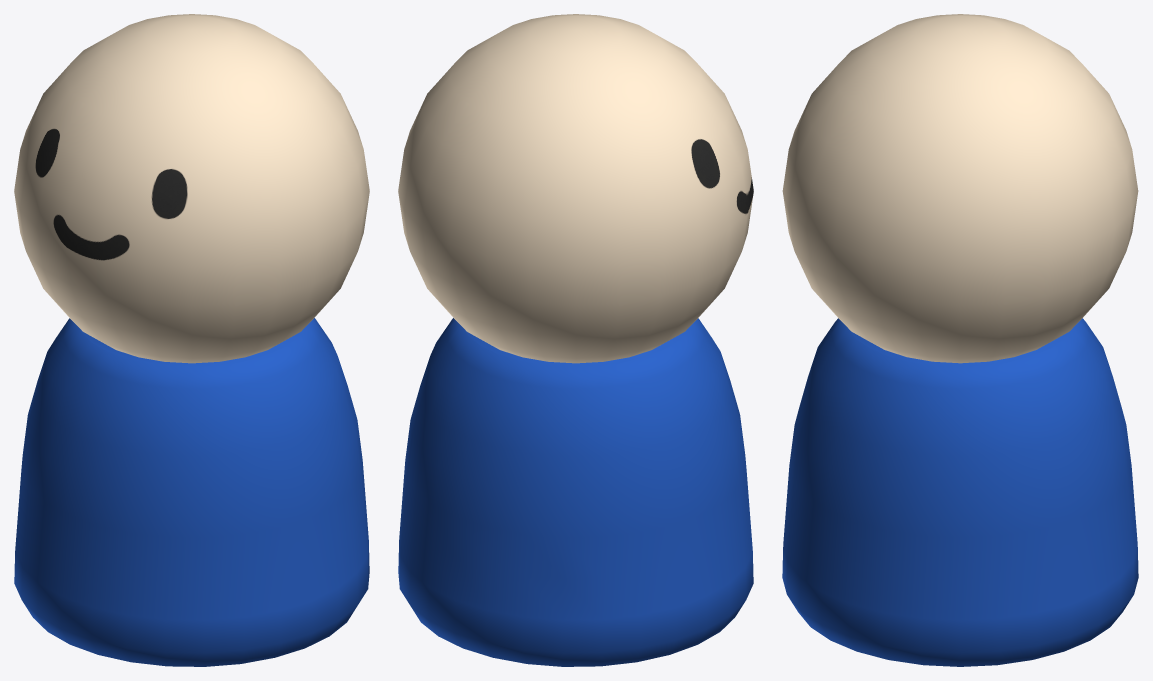
File: character_2.fbx
3 renders of one model, left to right at view 1: azimuth 30°, elevation 25°; view 2: azimuth 150°, elevation 25°; view 3: azimuth 270°, elevation 25°, orthographic.
Visible parts, largest first — view 1: body, kafa; view 2: body, kafa; view 3: body, kafa.
Boxes of the visible parts, x1=… form: body: x1=14, y1=318, x2=369, y2=666; kafa: x1=14, y1=14, x2=369, y2=363; body: x1=398, y1=318, x2=753, y2=666; kafa: x1=398, y1=14, x2=753, y2=363; body: x1=782, y1=318, x2=1138, y2=666; kafa: x1=782, y1=14, x2=1138, y2=363.
Size of the model in its own units: 61.57 by 110 by 61.57.
Materials: 2 (1 with a texture image).
